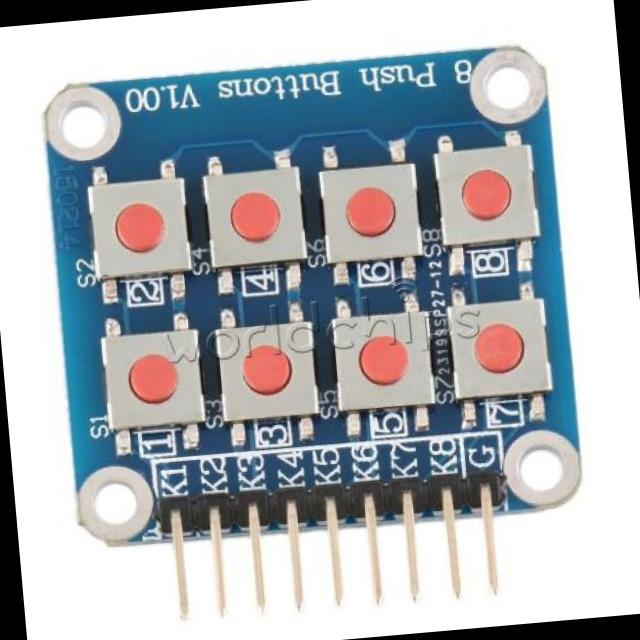connector: (154, 468, 518, 630)
